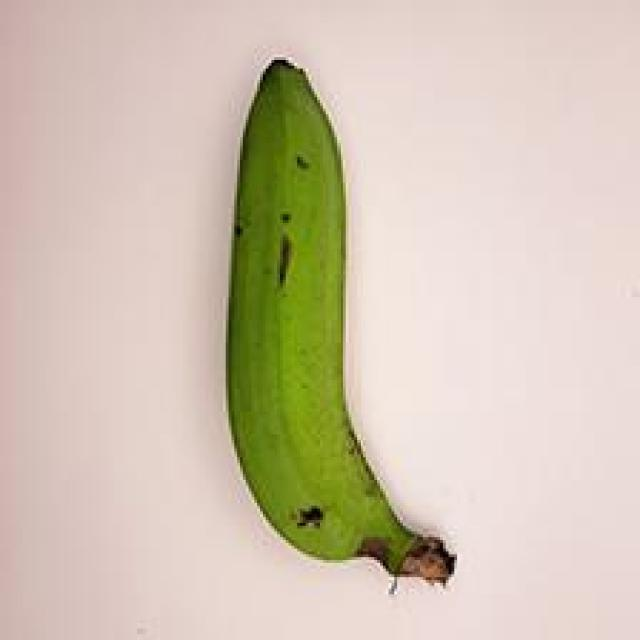Raw: (194, 42, 476, 618)
